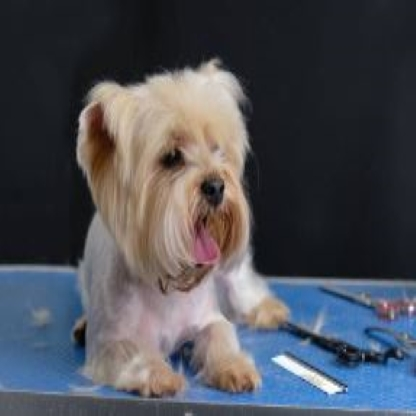maltese: (68, 56, 294, 399)
